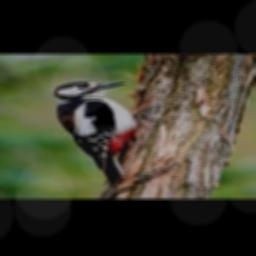Woodpecker: (53, 83, 138, 185)
